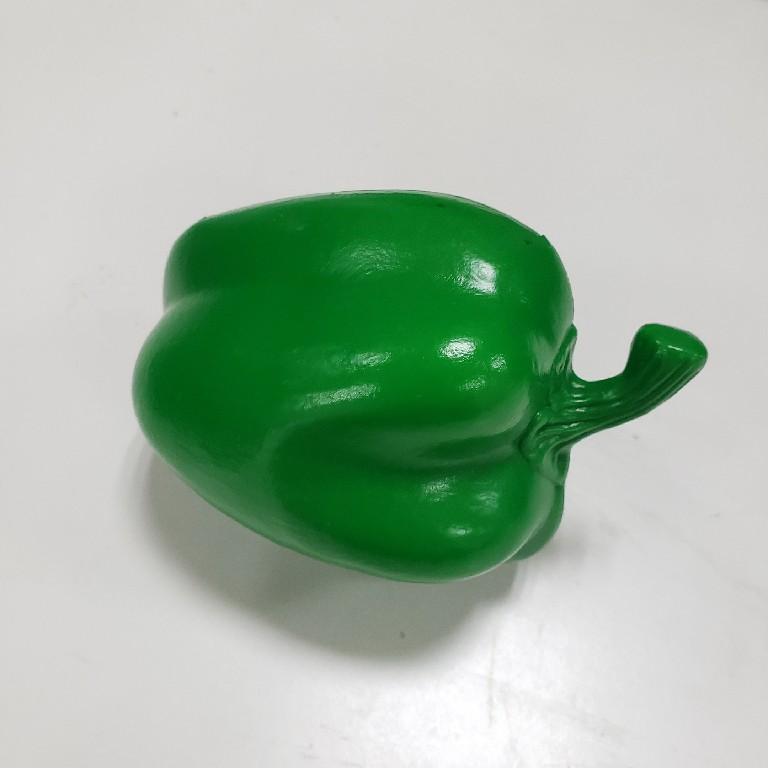fruit_pepper: (127, 184, 713, 587)
